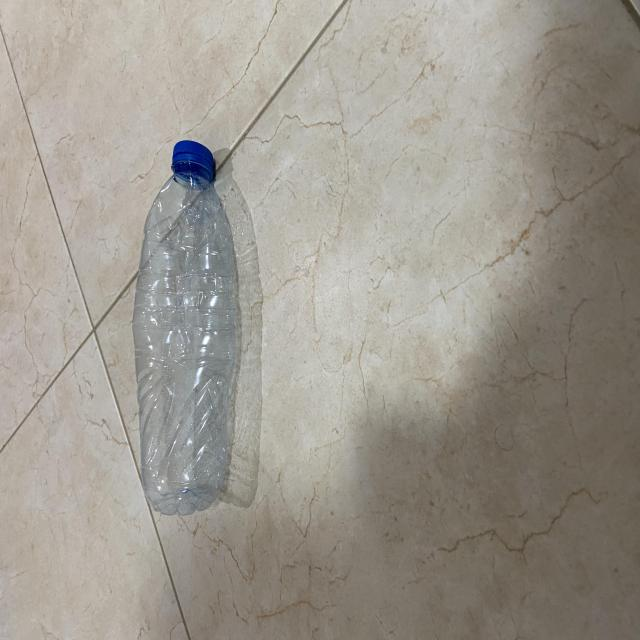plastic: (132, 134, 243, 520)
